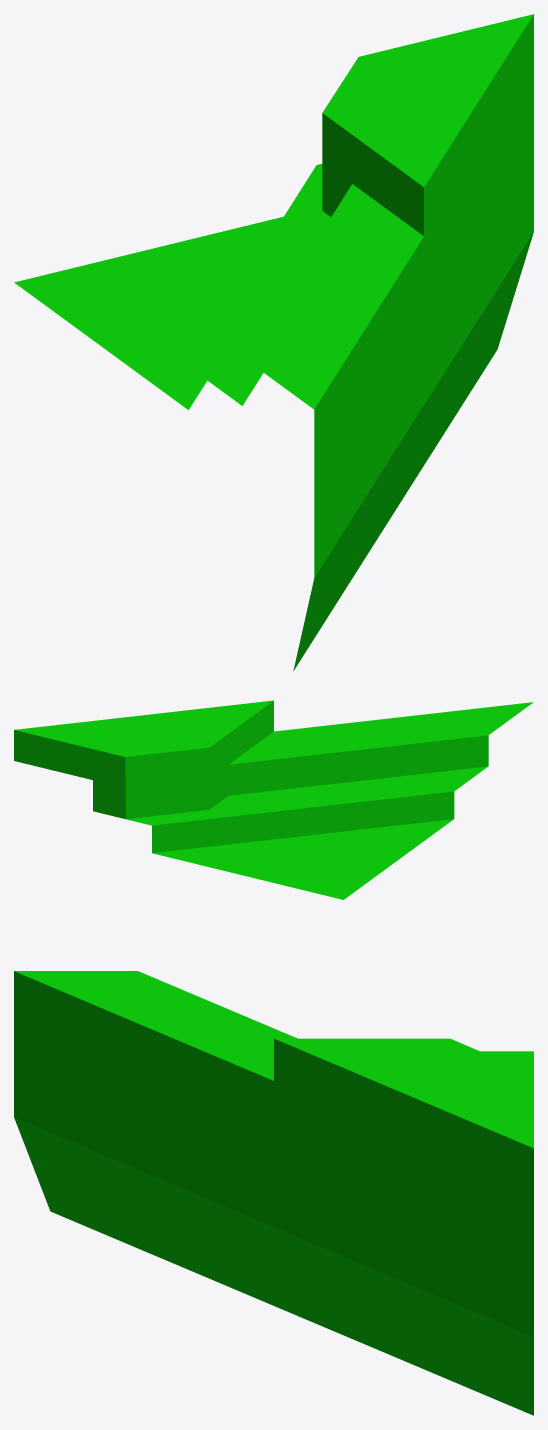
Rendered from Diagonal_TopFloor.glb.
The picture shows the model from 3 angles, top to bottom: view 1: azimuth 30°, elevation 25°; view 2: azimuth 150°, elevation 25°; view 3: azimuth 270°, elevation 25°; orthographic projection. The views are drawn at different scales.
Parts seen in each view (by area): view 1: Diagonal_TopFloor; view 2: Diagonal_TopFloor; view 3: Diagonal_TopFloor.
Part boxes in pixels (left/top/right/bottom): Diagonal_TopFloor: left=14, top=14, right=533, bottom=670; Diagonal_TopFloor: left=14, top=700, right=533, bottom=899; Diagonal_TopFloor: left=14, top=971, right=533, bottom=1415.
Size of the model in its own units: 0.5 by 0.3 by 0.5.
